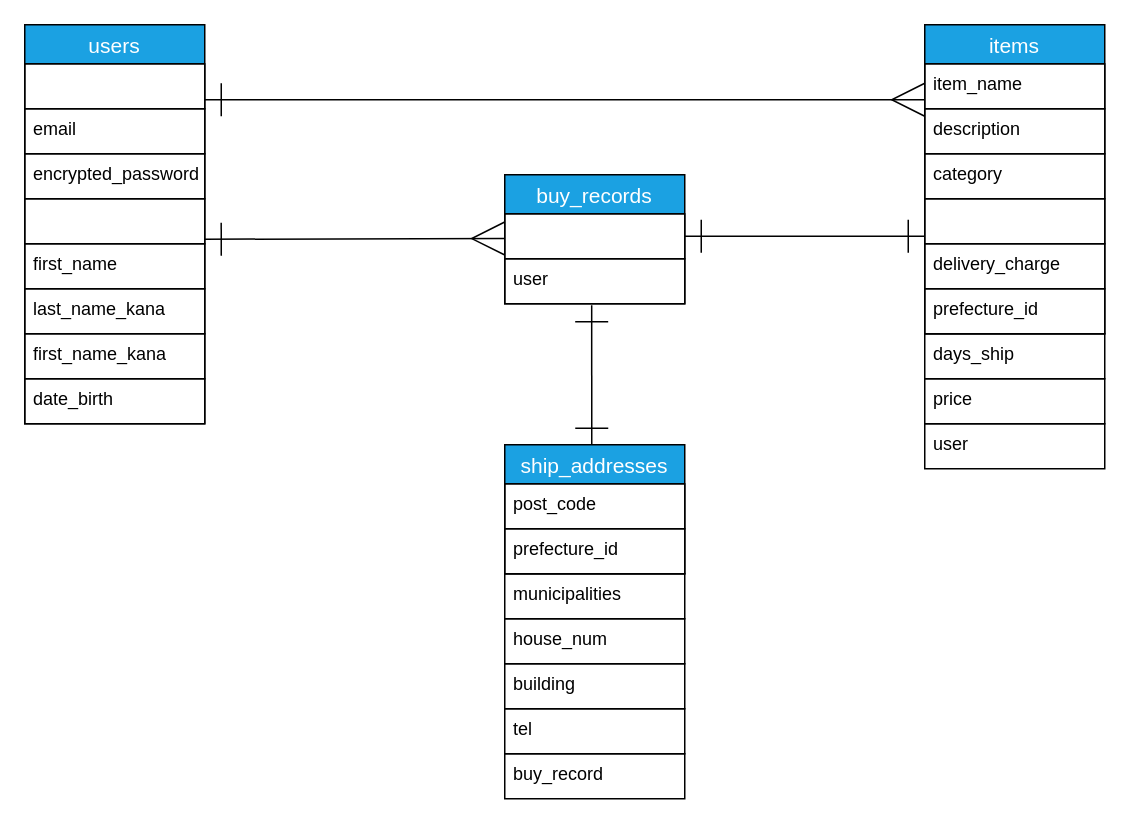
This 1130x824 diagram has some shape labels left out. The shapes that lost their labels are listed below. From the top down, each one's centre as x and y in pixels, then its label:
At point (114, 85): "nickname".
At point (114, 220): "last_name".
At point (594, 235): "item".
At point (1014, 220): "status".
